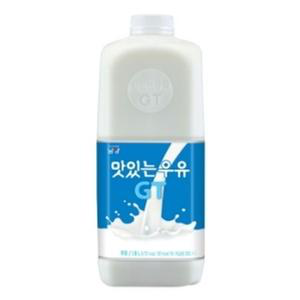milk: (98, 13, 204, 286)
